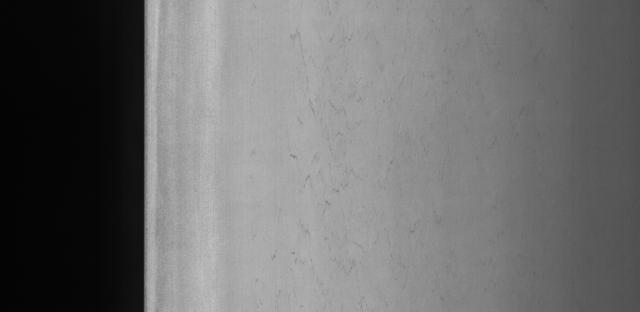silk_spot: (254, 50, 426, 295)
